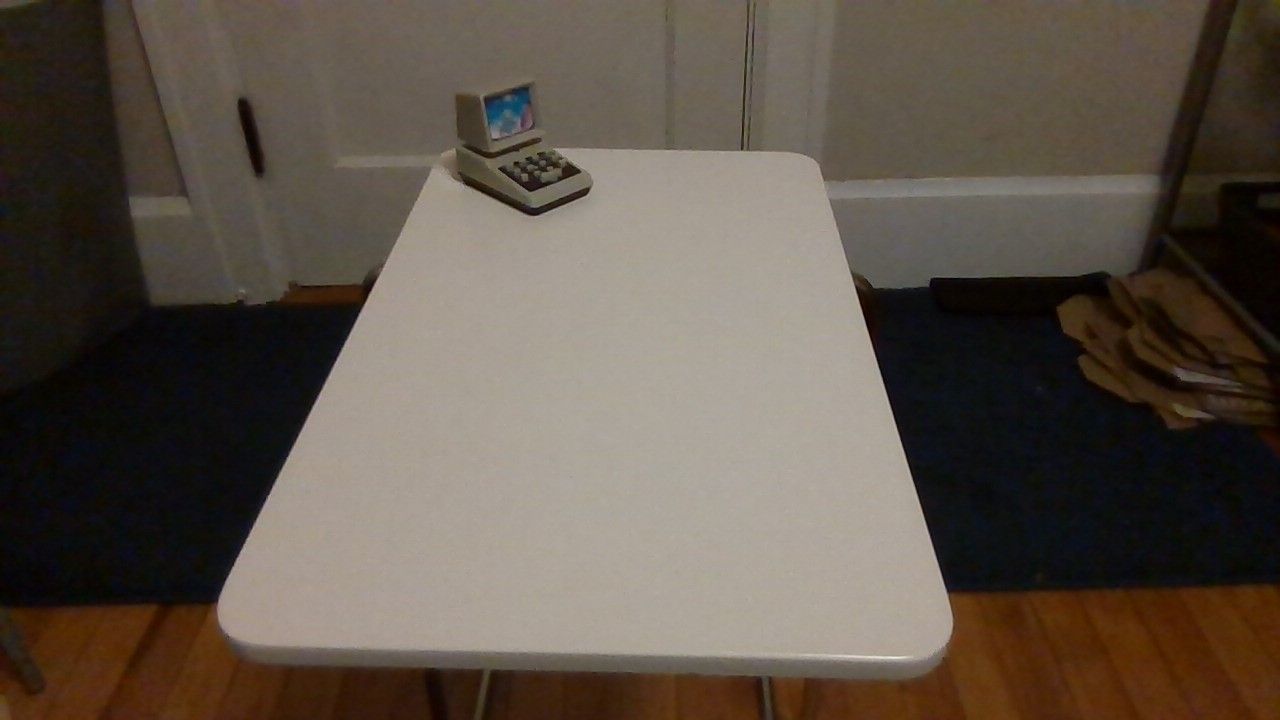Toy: (437, 71, 590, 226)
